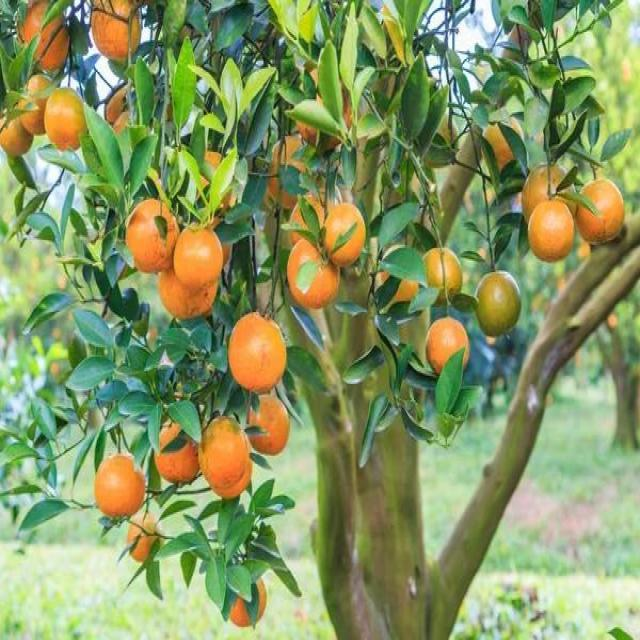Jeruk Belum Matang: (476, 269, 522, 336)
Jeruk Sudah Matang: (227, 310, 286, 388), (286, 235, 342, 314), (124, 200, 180, 275), (16, 0, 72, 70), (158, 260, 220, 322), (196, 414, 246, 484), (174, 222, 224, 290), (520, 164, 578, 222), (578, 179, 626, 248), (526, 197, 575, 264), (88, 0, 140, 62), (245, 392, 292, 459), (324, 200, 367, 270), (95, 454, 145, 514), (419, 246, 466, 309), (44, 83, 90, 147), (426, 316, 470, 374), (19, 74, 58, 138), (156, 424, 198, 482), (211, 444, 254, 500), (0, 99, 36, 158), (228, 580, 267, 630), (128, 515, 166, 562)
